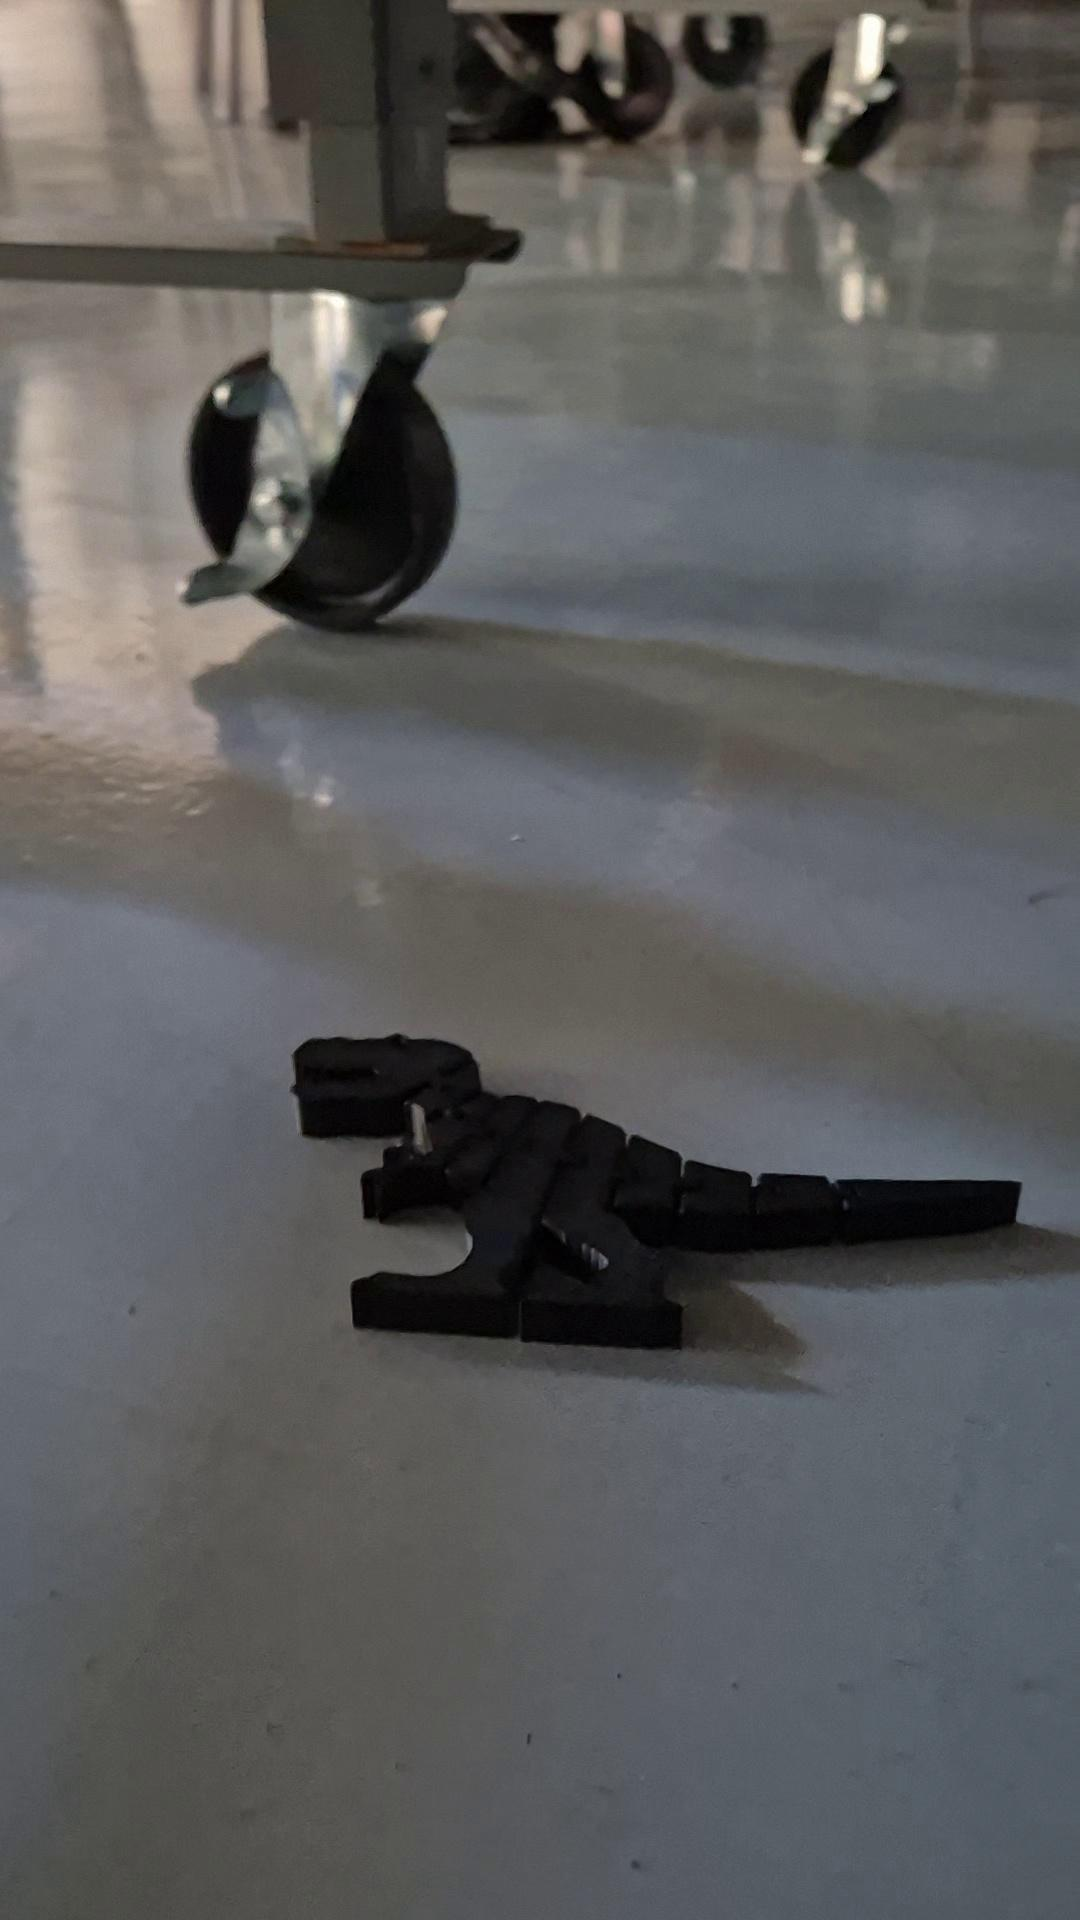dinosaur: (287, 1031, 1025, 1354)
